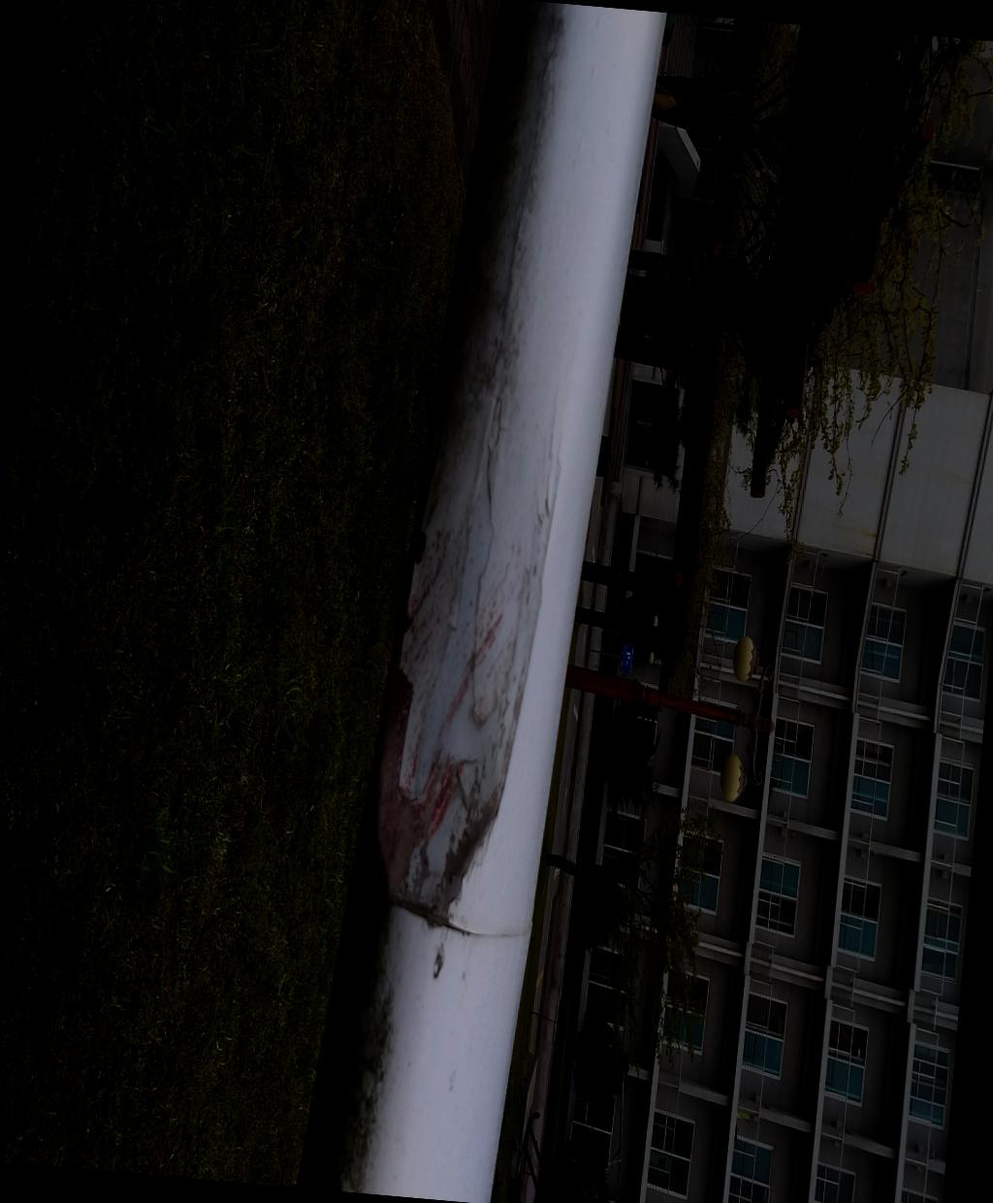corrosion: (611, 9, 802, 198)
